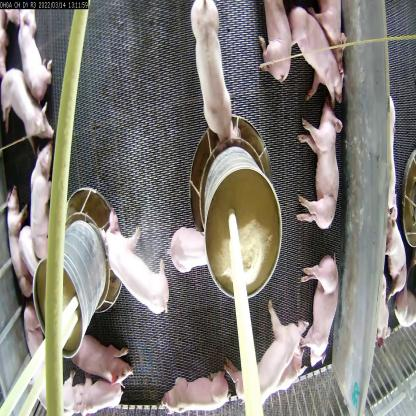Pig: (220, 296, 308, 410), (99, 196, 170, 322), (189, 0, 245, 144), (294, 102, 348, 239), (290, 0, 346, 104), (301, 242, 340, 371), (3, 55, 54, 150), (26, 138, 64, 254), (14, 9, 58, 100), (68, 330, 134, 386), (3, 181, 34, 299), (158, 366, 232, 415), (252, 0, 296, 78), (380, 192, 408, 301), (164, 215, 210, 275)
